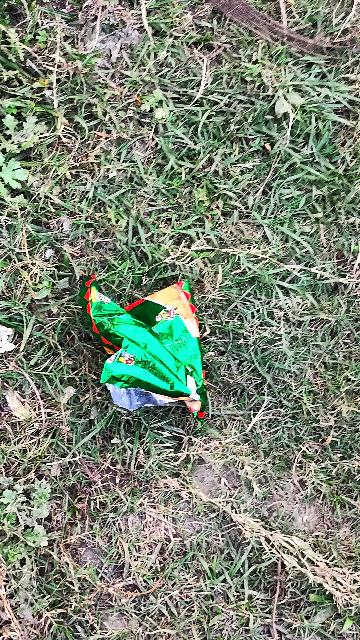packet: (83, 271, 217, 419)
